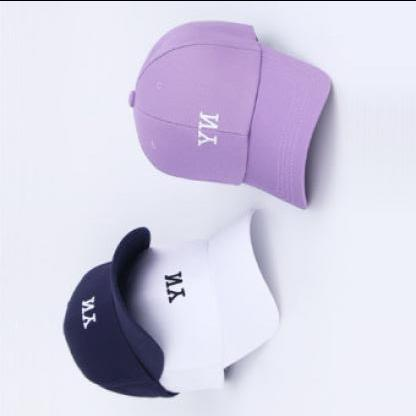cap: (121, 6, 334, 214)
